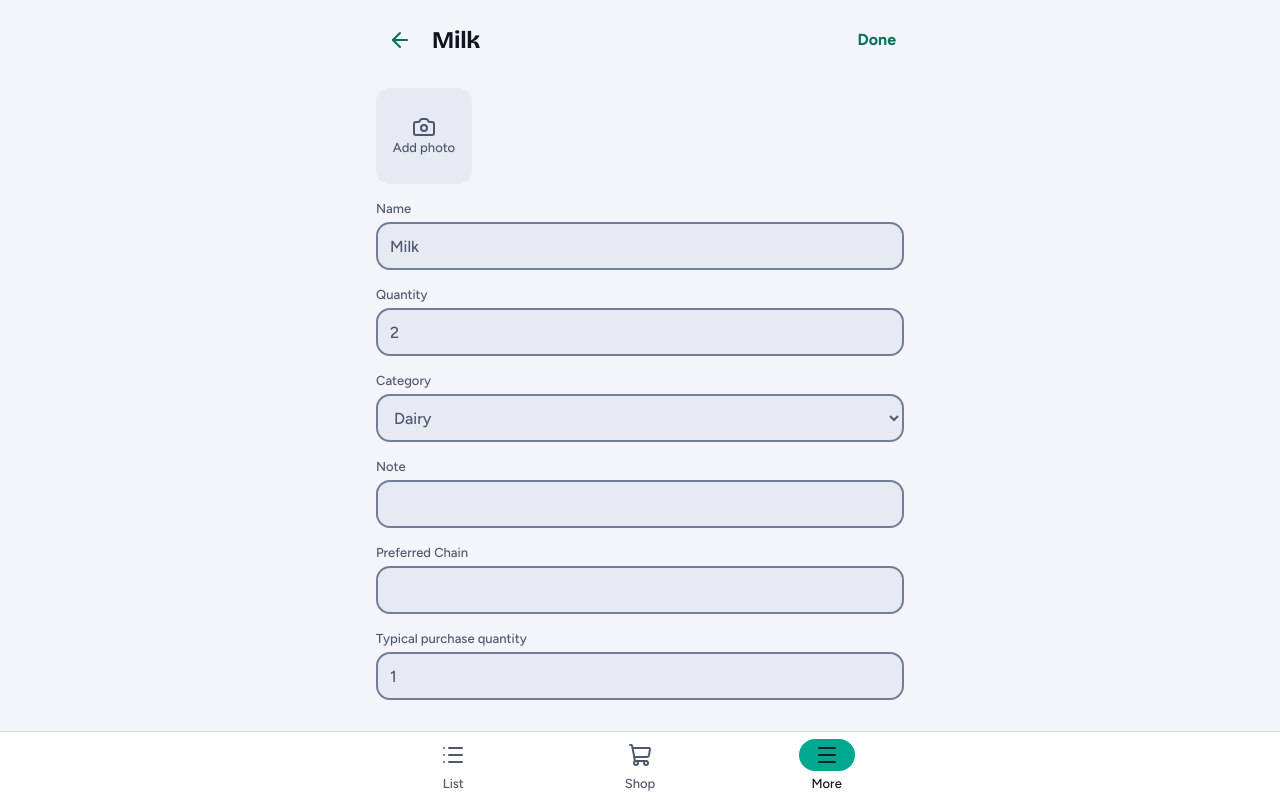
Test: edits the typical quantity and note together without changing the list quantity, then reloads
The width and height of the screenshot is (1280, 800).
Replace the text in the field labelled "Typical purchase quantity" with "4" at (640, 676), box [376,652,904,700]
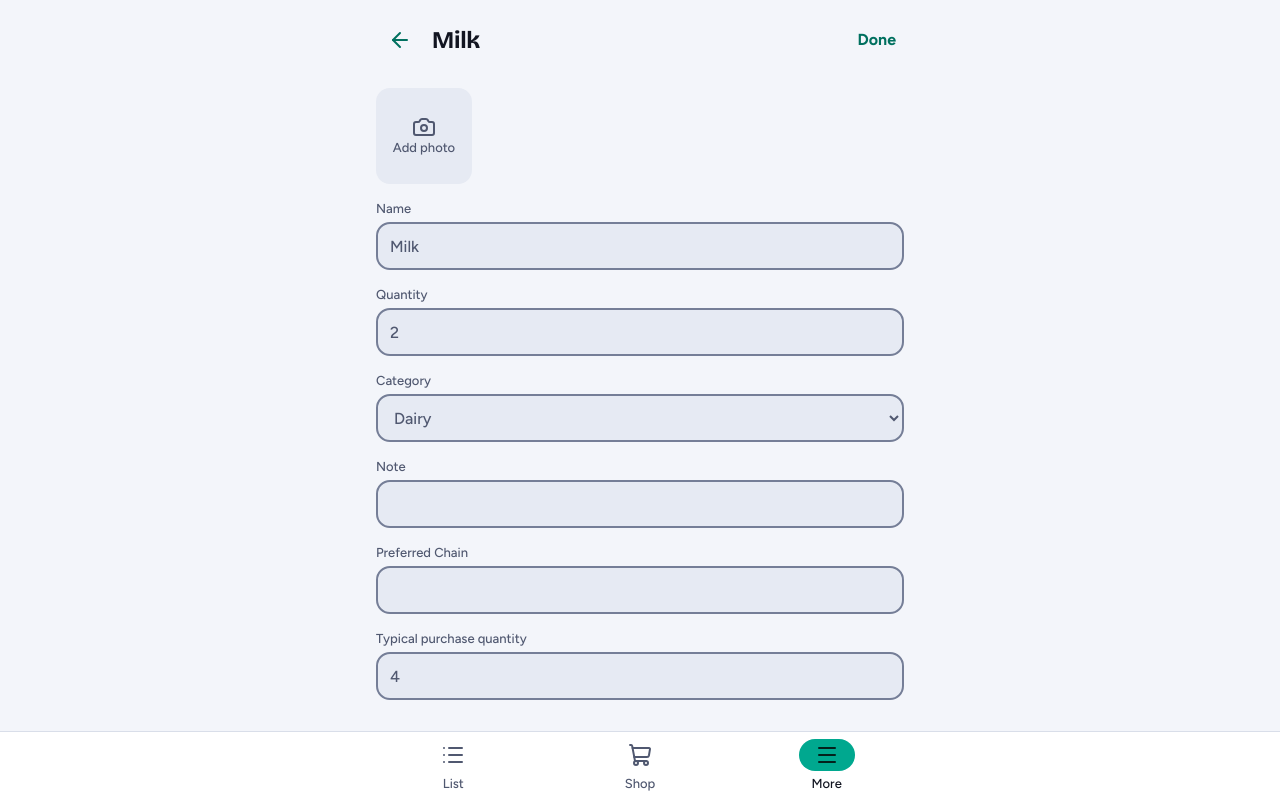
Type "Weekly" into the field labelled "Note" at (640, 504), box [376,480,904,528]
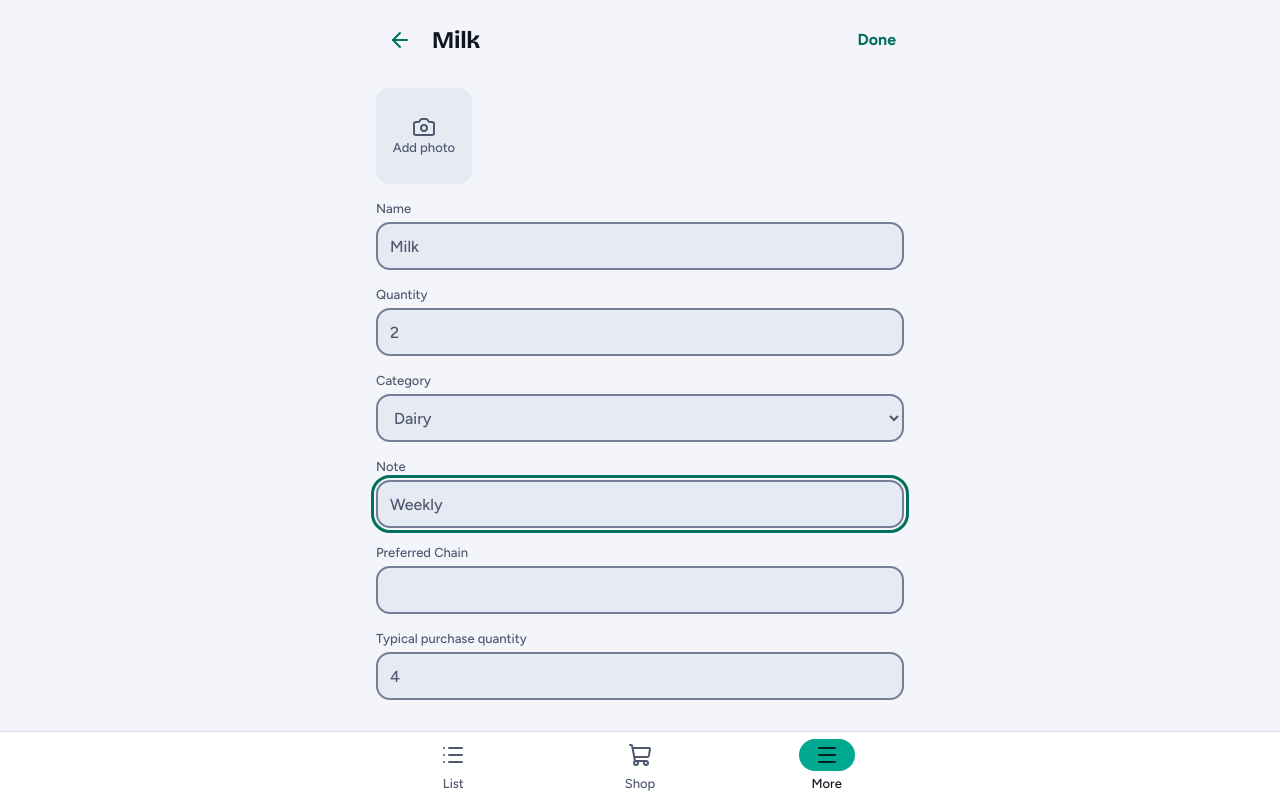
Click the button "Done" at (877, 40), box [850,16,904,64]
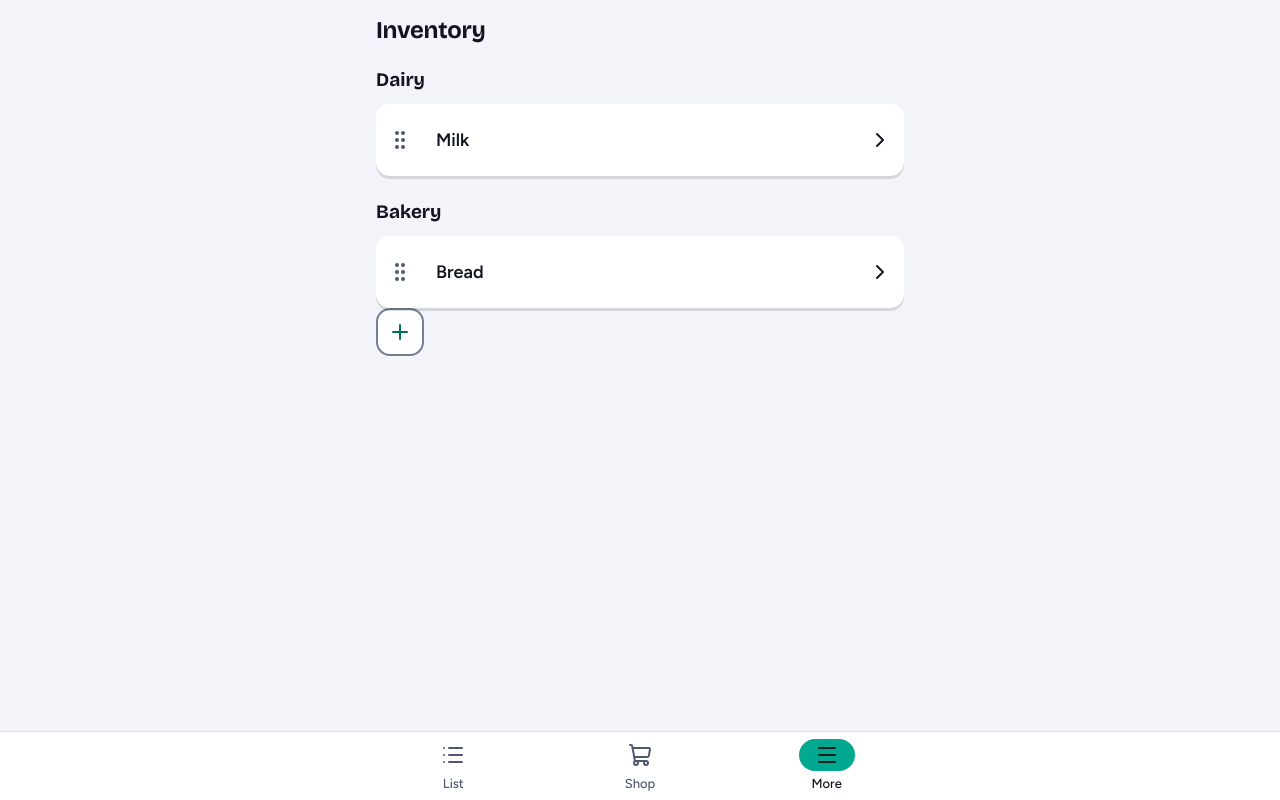
Click the link "Milk" at (453, 140), box [436,128,892,152]
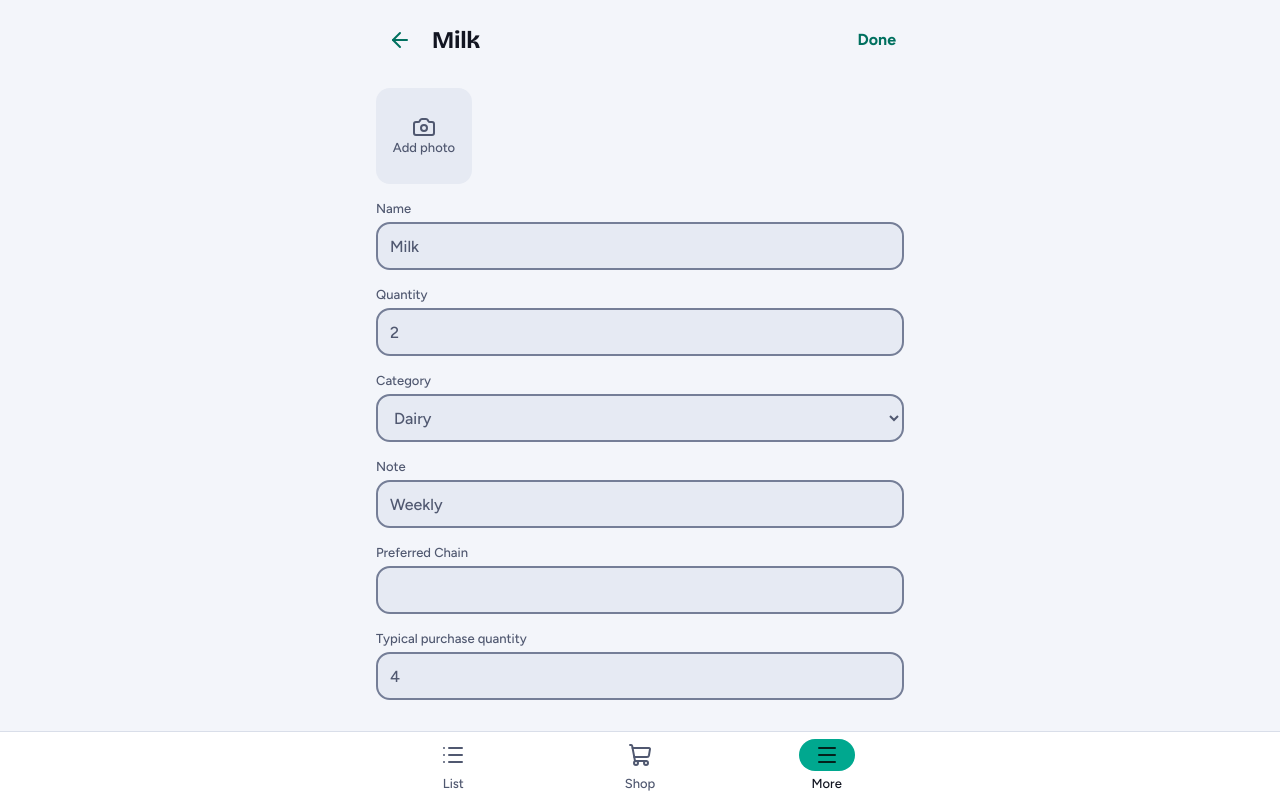
Expected: the field labelled "Typical purchase quantity" holds "4", [376,652,904,700]
